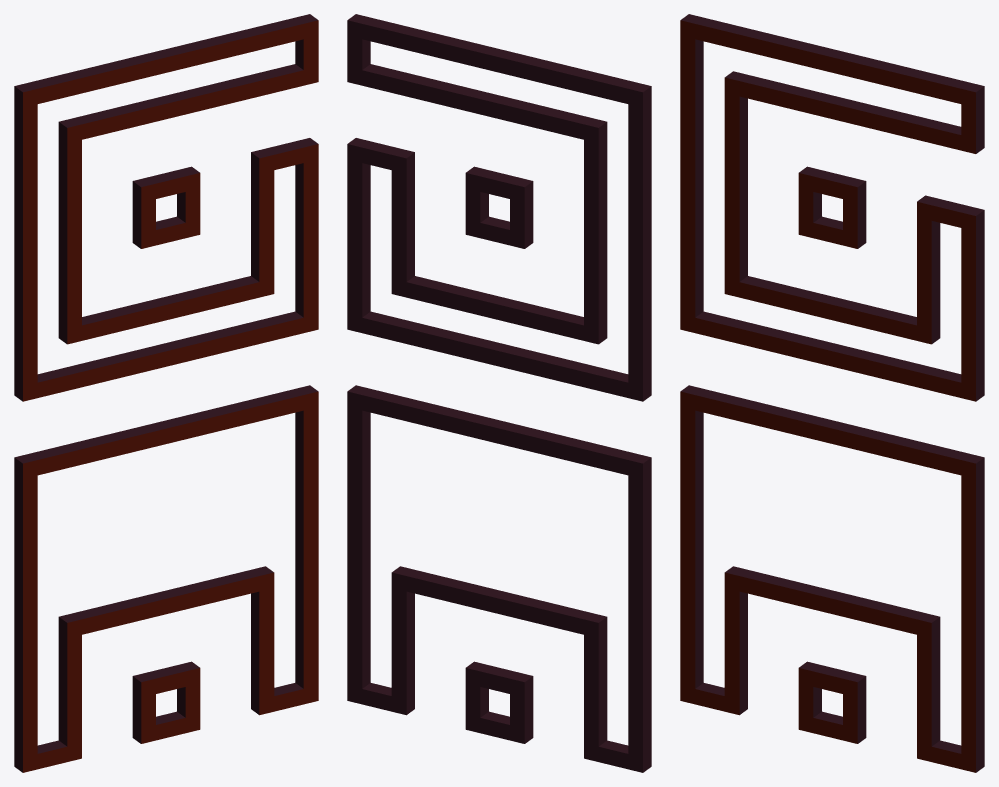
File: neon_nuao.fezao.glb
The picture shows the model from 3 angles, left to right: view 1: azimuth 30°, elevation 25°; view 2: azimuth 150°, elevation 25°; view 3: azimuth 330°, elevation 25°; orthographic projection.
Parts seen in each view (by area): view 1: NEON_NUAO; view 2: NEON_NUAO; view 3: NEON_NUAO.
Boxes of the visible parts, <box> form: NEON_NUAO: <box>14,14,318,772</box>; NEON_NUAO: <box>347,14,651,772</box>; NEON_NUAO: <box>680,14,984,772</box>.
Size of the model in its own units: 1.25 by 2.75 by 0.0625.
Materials: 1 (1 with a texture image).
